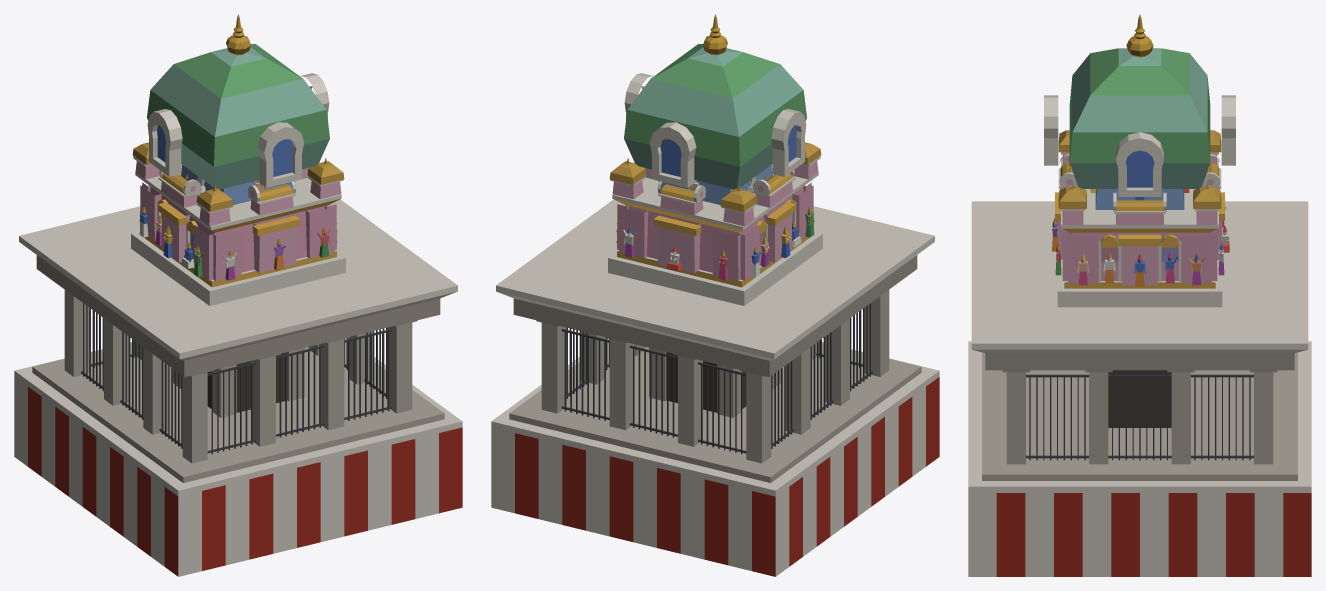
The model's file is kapaleeshwarar_tank_mandapam.glb.
3 views of the same model, side by side, from view 1: azimuth 30°, elevation 25°; view 2: azimuth 150°, elevation 25°; view 3: azimuth 270°, elevation 25° (orthographic). The views are drawn at different scales.
Parts seen in each view (by area): view 1: kapaleeshwarar_tank_mandapam; view 2: kapaleeshwarar_tank_mandapam; view 3: kapaleeshwarar_tank_mandapam.
Boxes of the visible parts, x1,y1,x2,y2 form: kapaleeshwarar_tank_mandapam: [14, 14, 462, 576]; kapaleeshwarar_tank_mandapam: [491, 14, 939, 576]; kapaleeshwarar_tank_mandapam: [968, 14, 1311, 576].
Size of the model in its own units: 10 by 15.74 by 10.
